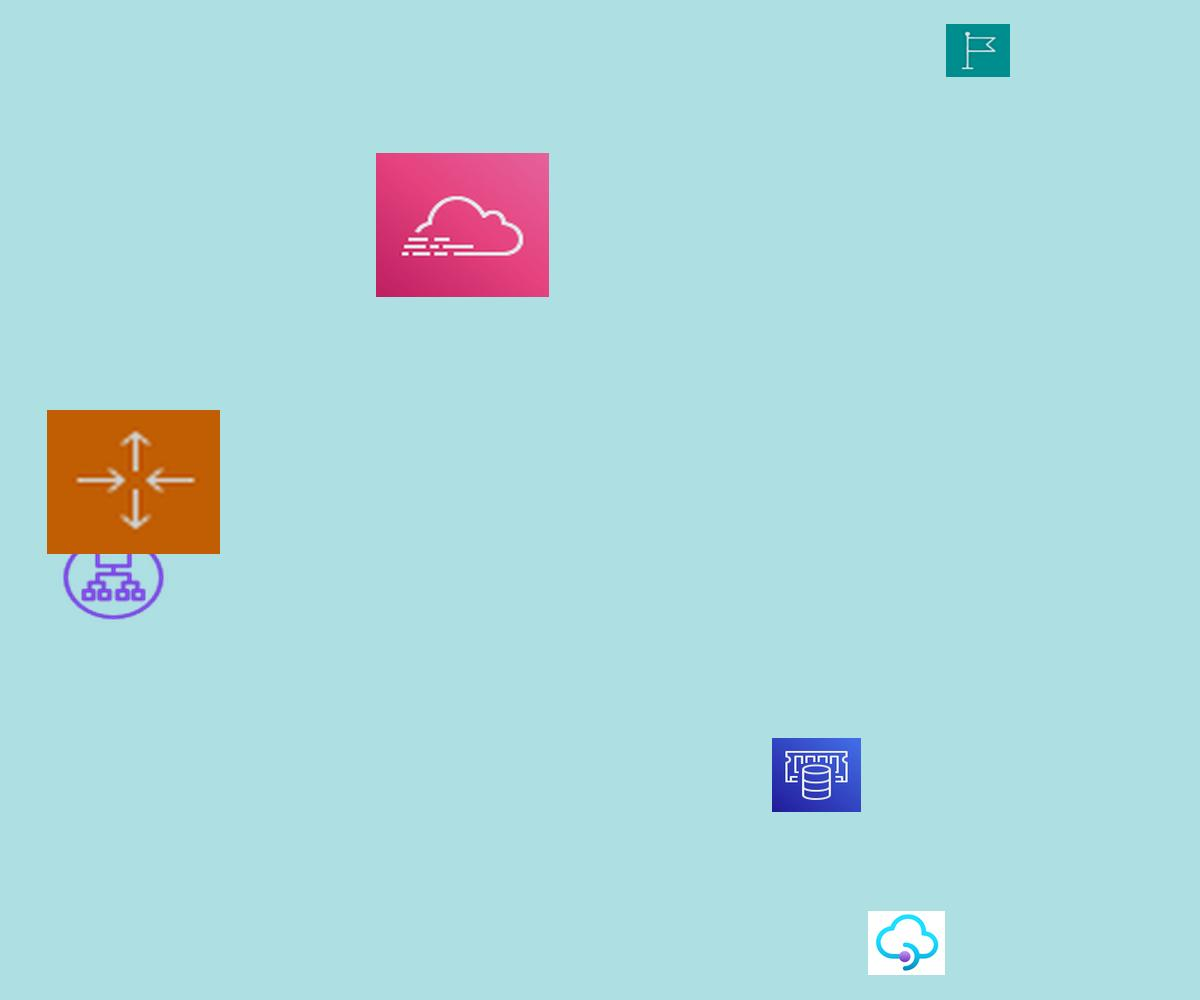AWS-CloudTrail: (376, 153, 549, 297)
AWS-ElastiCache: (772, 738, 861, 812)
AWS-Region: (946, 24, 1010, 77)
AWS-Res_Elastic-Load-Balancing_Application-Load-Balancer: (59, 532, 168, 623)
AWS-Scaling-group: (47, 410, 220, 554)
Azure_api_gateway: (868, 911, 945, 975)
